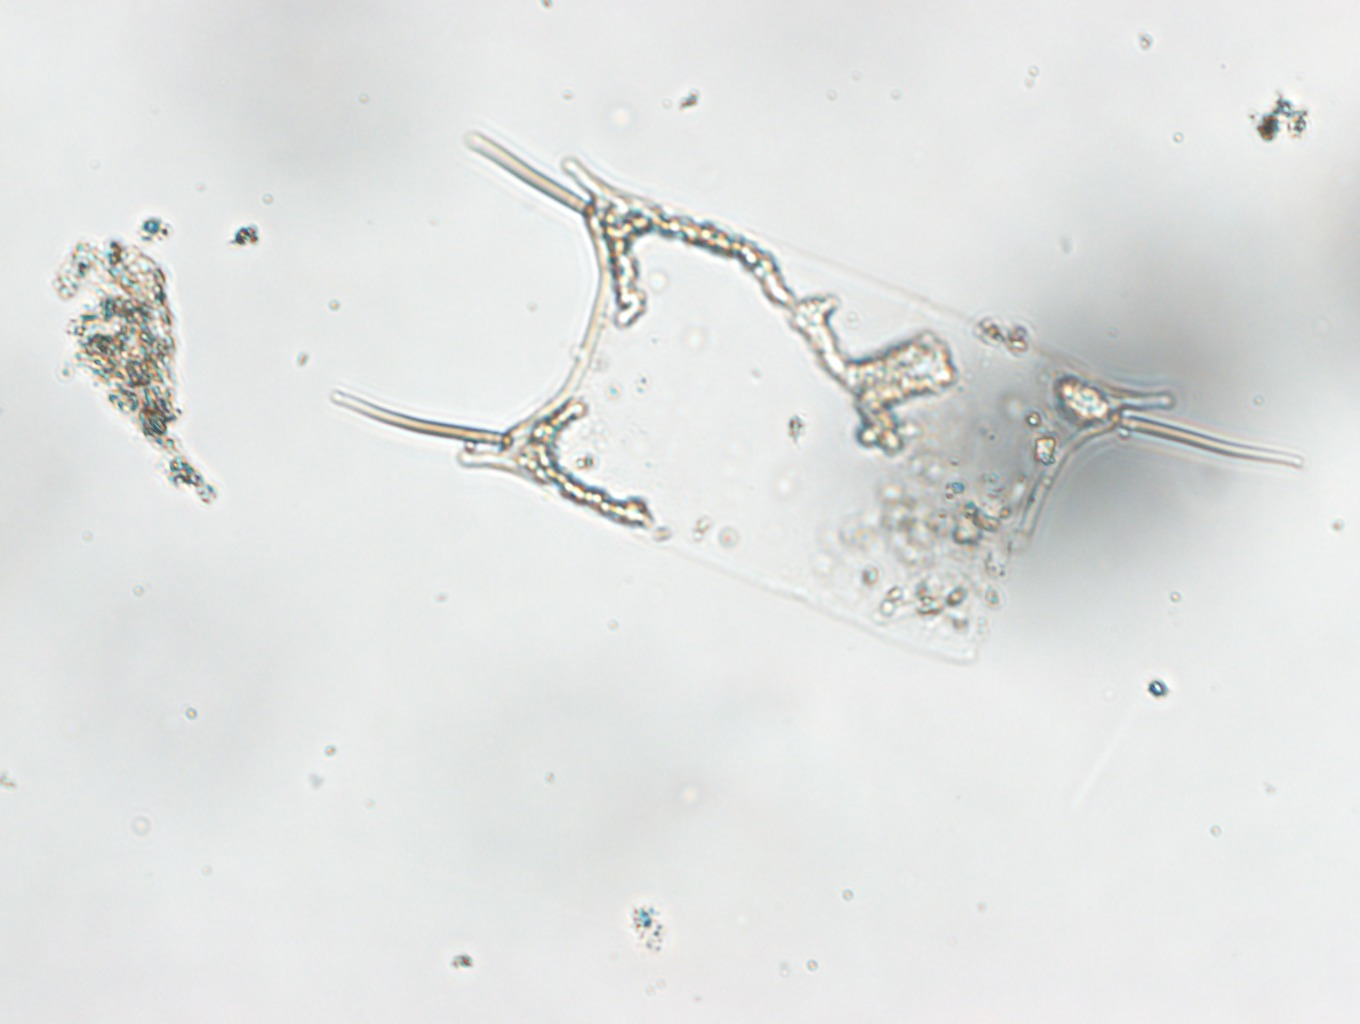biddulphia: (332, 128, 1305, 675)
